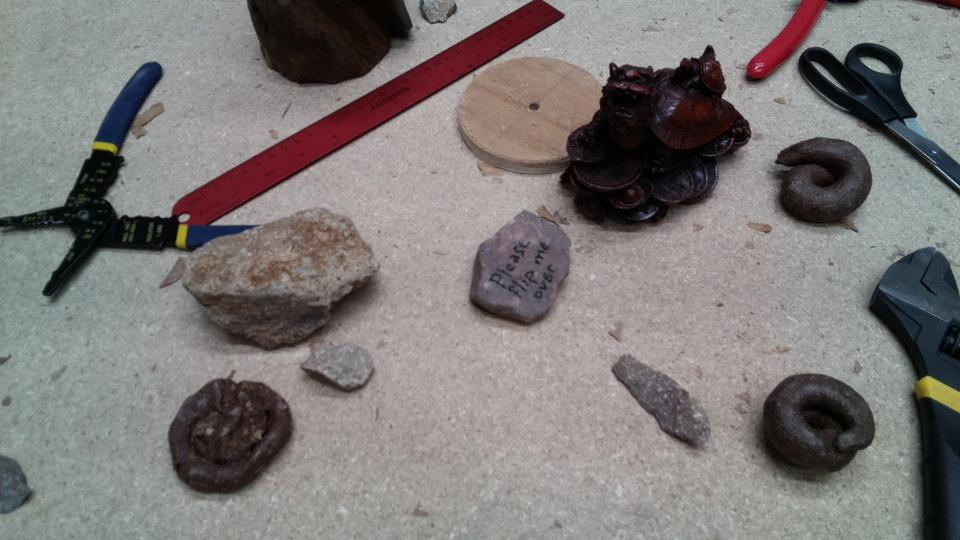poop: (160, 374, 296, 495), (760, 373, 878, 475), (770, 134, 872, 230)
